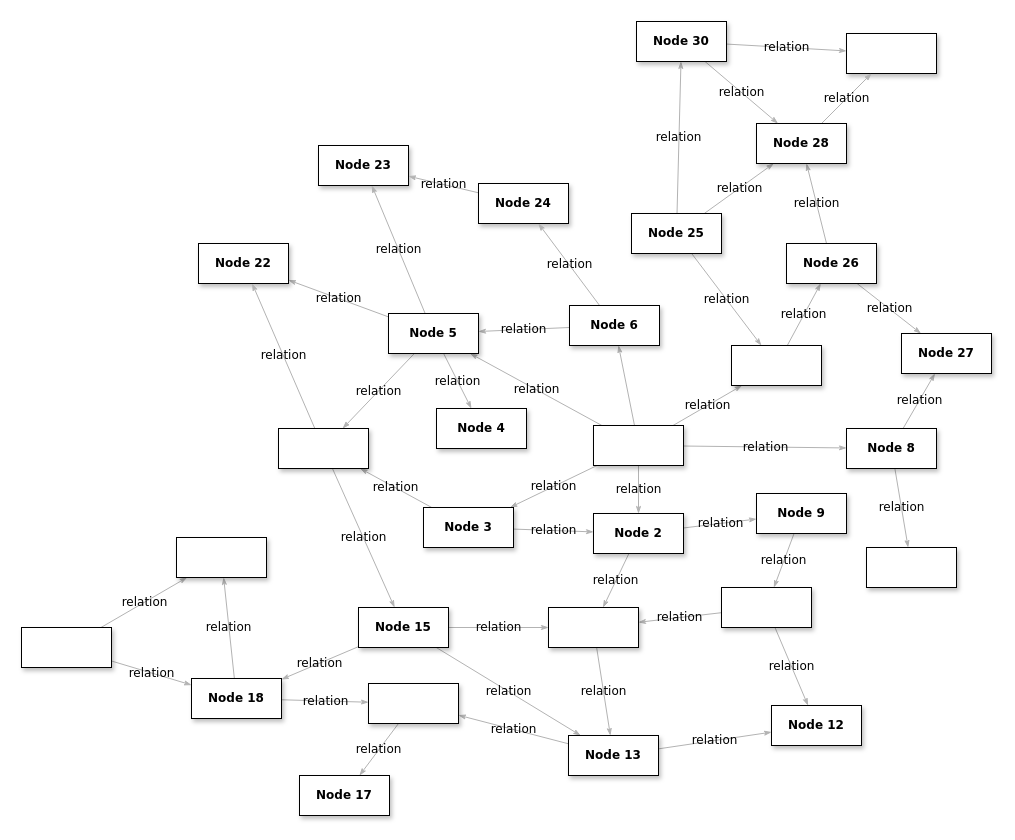
Some shapes in this 1015 by 840 pixel diagram are drawn without their labels. The shapes that lost their labels are listed below. From the top down, each one's centre as x and y in pixels, then its label:
[892,54]: Node 29
[777,366]: Node 7
[324,450]: Node 21
[639,446]: Node 1
[222,558]: Node 19
[912,568]: Node 10
[594,628]: Node 14
[767,608]: Node 11
[67,648]: Node 20
[414,704]: Node 16
